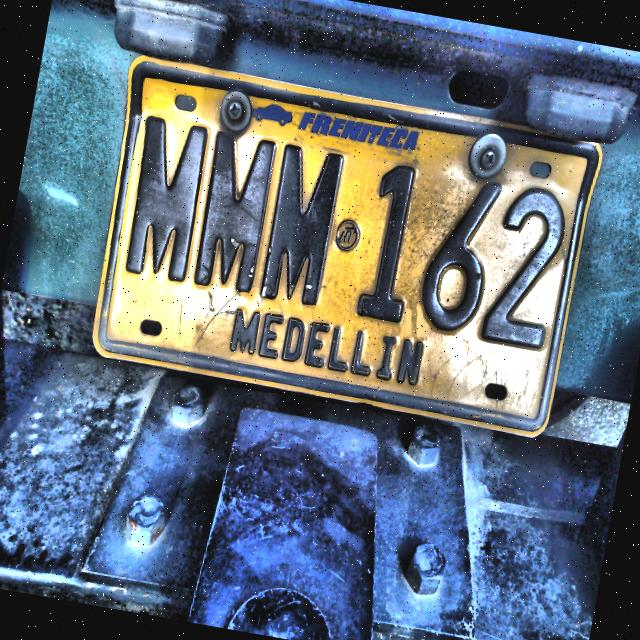1: (351, 158, 430, 327)
2: (478, 180, 574, 354)
6: (413, 172, 503, 338)
M: (116, 112, 214, 286), (188, 129, 280, 296), (256, 142, 346, 310)
